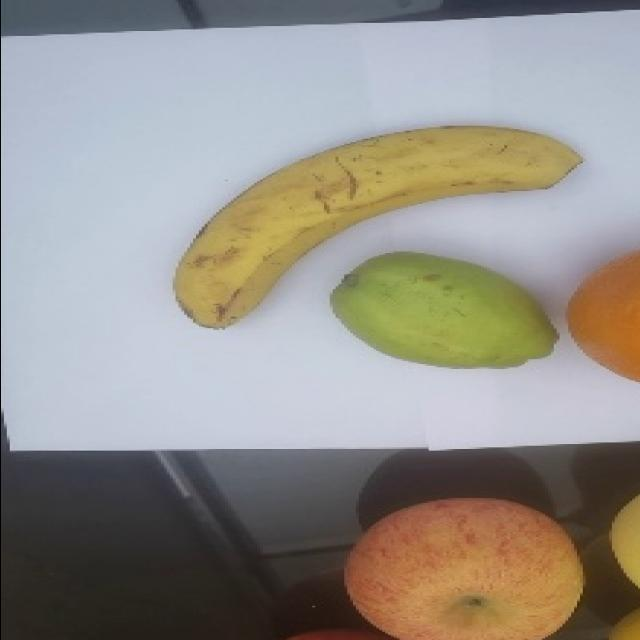Apple: (343, 496, 585, 639)
Banana: (172, 123, 583, 329)
Orange: (566, 248, 639, 382)
